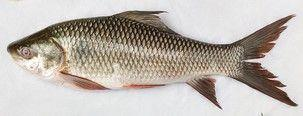Indian Carp: (9, 10, 298, 110)
